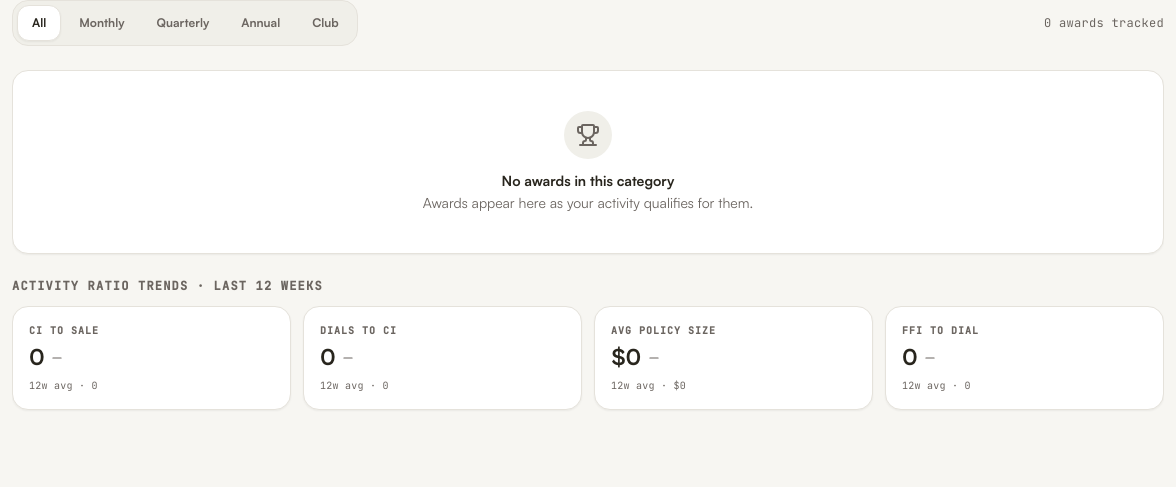
Test case: AgentAwardsPanel — 0.1b actionable empty (category filter) › switching to a category with no awards shows a "View all categories" CTA that resets the filter
The width and height of the screenshot is (1176, 487).
Expected: the element with test id "agent-awards-empty-category" is shown, [12,70,1164,254]
Expected: the button "view all categories" is not shown
Click the button "Monthly": coordinates (102, 23) [65,5,138,41]
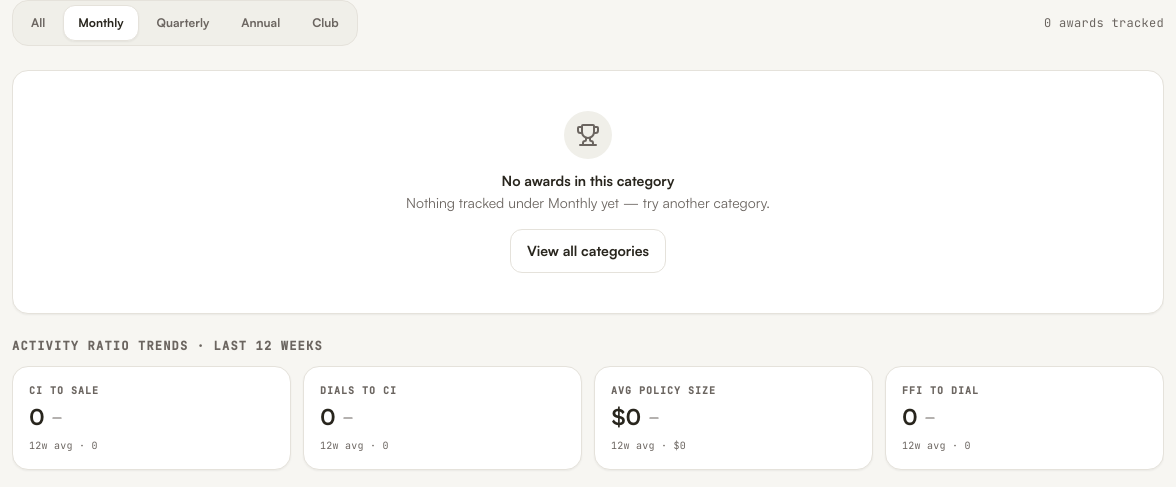
Expected: the element with test id "agent-awards-empty-category" shows "Monthly", [406,194,770,211]
Click the button "View all categories": coordinates (588, 251) [510,229,666,273]
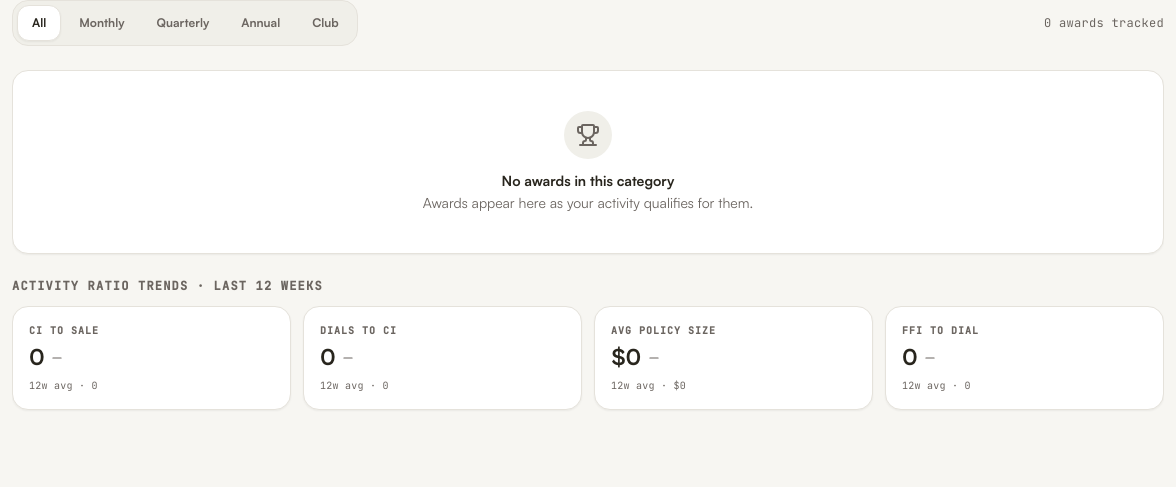
Expected: the button "View all categories" is gone
